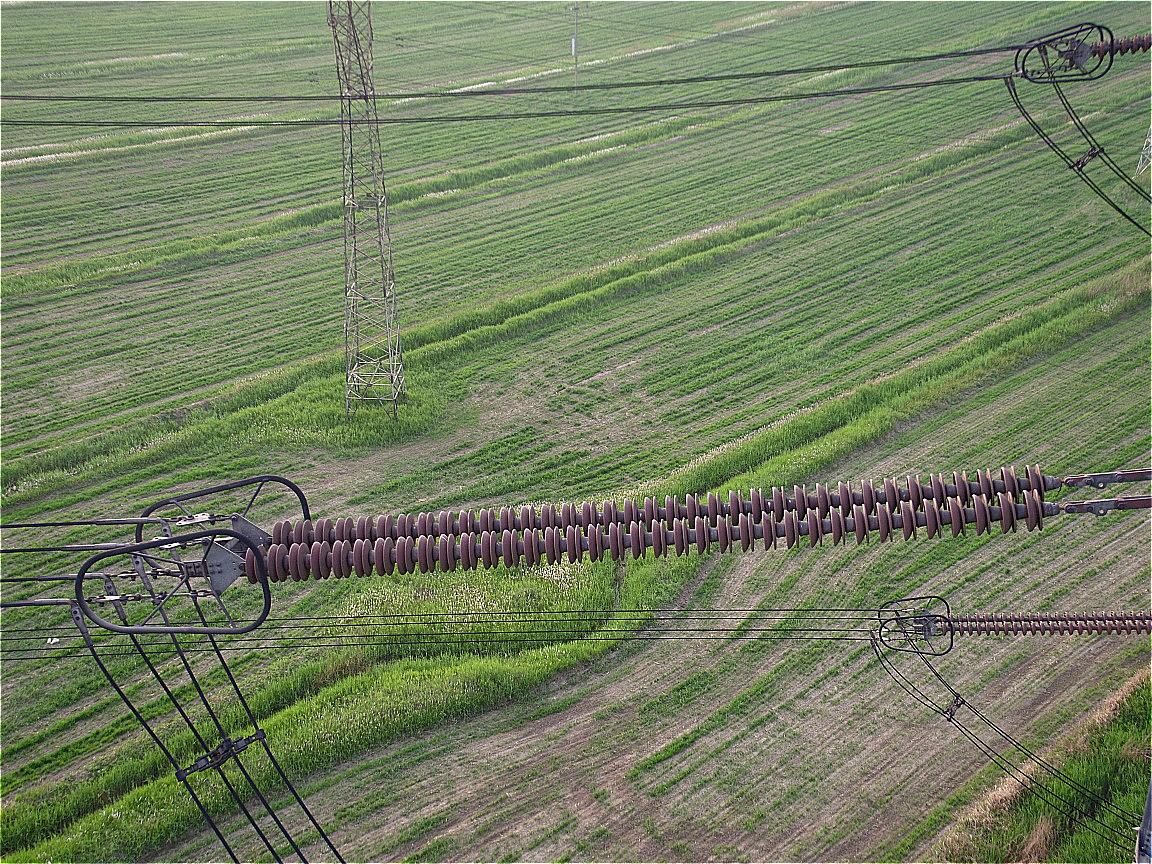insultor2: (243, 464, 1049, 586)
